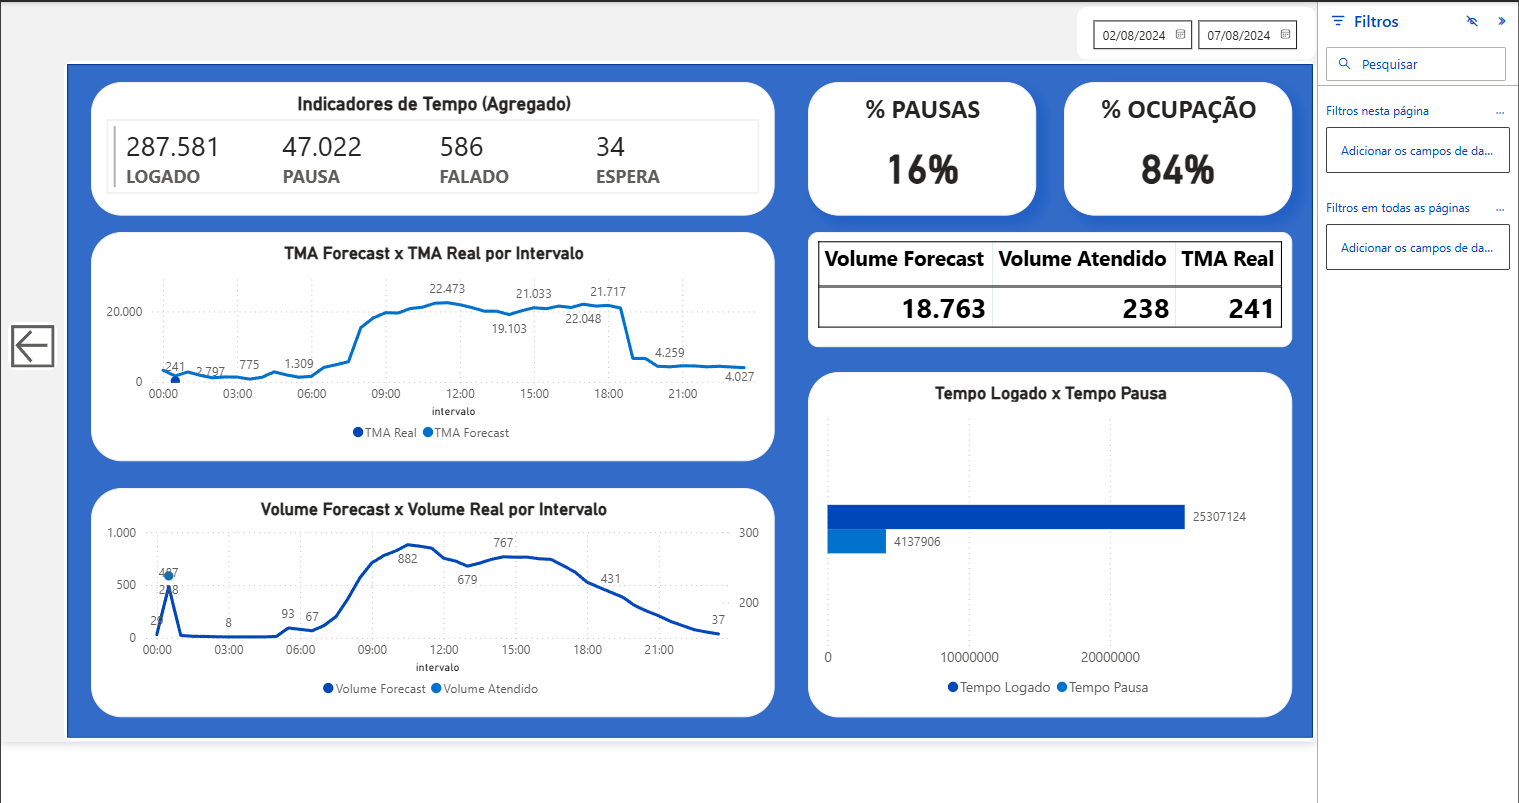

The page's visual inventory and layout, read from the dashboard file:
{"tool":"powerbi","page":{"name":"Análise Detalhada","canvas":[1280,720],"ordinal":1},"visuals":[{"type":"shape","box":[60.3,56.4,1219.7,663.3],"z":0},{"type":"card","title":"% PAUSAS","fields":{"Values":["Tabela de Medidas.% Pausas"]},"box":[784.9,77.8,221.8,130.3],"z":1000},{"type":"card","title":"% OCUPAÇÃO","fields":{"Values":["Tabela de Medidas.% Ocupação"]},"box":[1033.9,77.8,221.8,130.3],"z":2000},{"type":"multiRowCard","title":"Indicadores de Tempo (Agregado)","fields":{"Values":["Avg(vw_operacional_consolidado.tempo_logado)","Avg(vw_operacional_consolidado.tempo_pausa)","Avg(vw_operacional_consolidado.tempo_falado)","Avg(vw_operacional_consolidado.tempo_espera)"]},"box":[87.5,77.8,665.3,130.3],"z":3000},{"type":"lineChart","title":"TMA Forecast x TMA Real por Intervalo","fields":{"Y":["Tabela de Medidas.TMA Real","Avg(vw_operacional_consolidado.tma_forecast)"],"Category":["vw_operacional_consolidado.intervalo"]},"box":[87.5,223.7,665.3,222.7],"z":5000},{"type":"lineChart","title":"Volume Forecast x Volume Real por Intervalo","fields":{"Category":["vw_operacional_consolidado.intervalo"],"Y":["Tabela de Medidas.Volume Forecast"],"Y2":["Tabela de Medidas.Volume Atendido"]},"box":[87.5,472.7,665.3,222.7],"z":6000},{"type":"tableEx","fields":{"Values":["Tabela de Medidas.Volume Forecast","Tabela de Medidas.Volume Atendido","Tabela de Medidas.TMA Real"]},"box":[784.9,223.7,470.8,111.9],"z":7000},{"type":"clusteredBarChart","title":"Tempo Logado x Tempo Pausa","fields":{"Y":["Tabela de Medidas.Tempo Logado","Tabela de Medidas.Tempo Pausa"]},"box":[784.9,359.9,470.8,335.6],"z":8000},{"type":"actionButton","box":[5.4,310.6,50.3,49.4],"z":9000},{"type":"slicer","fields":{"Values":["vw_operacional_consolidado.data"]},"box":[1045.9,3.6,234.3,53],"z":10000}]}

Visuals, with their boxes on the page's 1280x720 design canvas (x1, y1, x2, y2). These are canvas units, not pixel positions in the 1519x803 screenshot, which may show the page scaled, cropped or inside an application window:
shape: region(60, 56, 1280, 720)
"% PAUSAS" card: region(785, 78, 1007, 208)
"% OCUPAÇÃO" card: region(1034, 78, 1256, 208)
"Indicadores de Tempo (Agregado)" multiRowCard: region(88, 78, 753, 208)
"TMA Forecast x TMA Real por Intervalo" lineChart: region(88, 224, 753, 446)
"Volume Forecast x Volume Real por Intervalo" lineChart: region(88, 473, 753, 695)
tableEx - Tabela de Medidas.Volume Forecast x Tabela de Medidas.Volume Atendido: region(785, 224, 1256, 336)
"Tempo Logado x Tempo Pausa" clusteredBarChart: region(785, 360, 1256, 696)
actionButton: region(5, 311, 56, 360)
slicer - vw_operacional_consolidado.data: region(1046, 4, 1280, 57)
